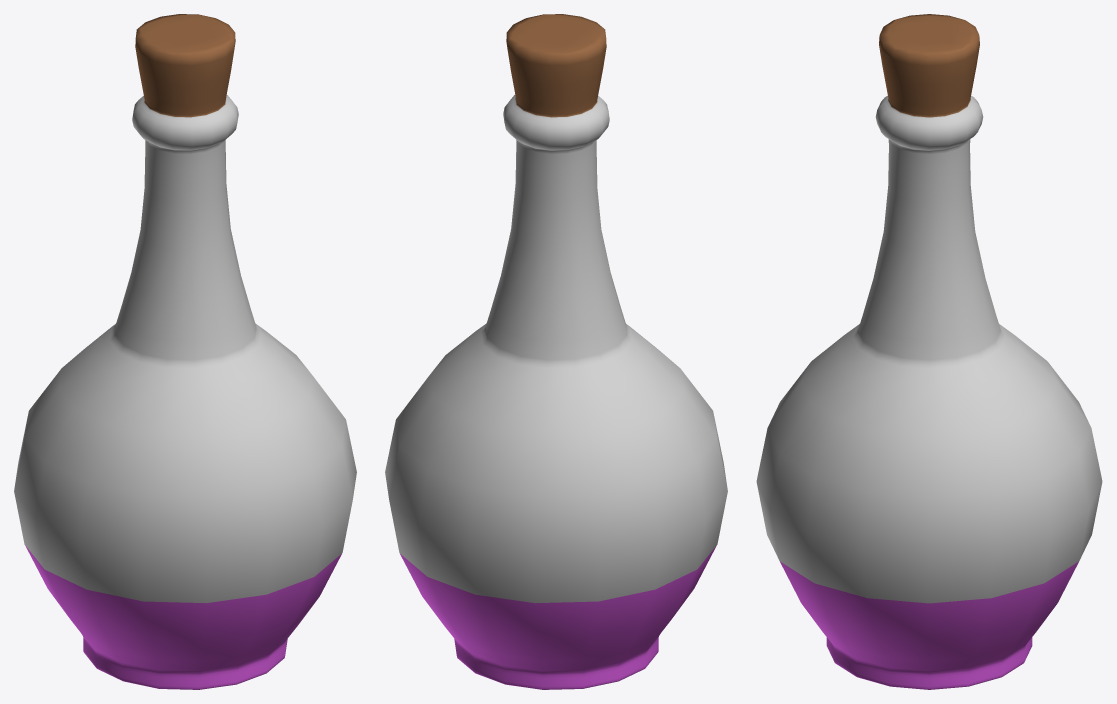
File: Pocion_8.fbx
3 views of the same model, side by side, from view 1: azimuth 30°, elevation 25°; view 2: azimuth 150°, elevation 25°; view 3: azimuth 270°, elevation 25° (orthographic).
Parts seen in each view (by area): view 1: Cube.006; view 2: Cube.006; view 3: Cube.006.
Part boxes in pixels (left/top/right/bottom): Cube.006: left=14, top=14, right=356, bottom=689; Cube.006: left=385, top=14, right=727, bottom=689; Cube.006: left=756, top=14, right=1102, bottom=689.
Size of the model in its own units: 133 by 260 by 133.
